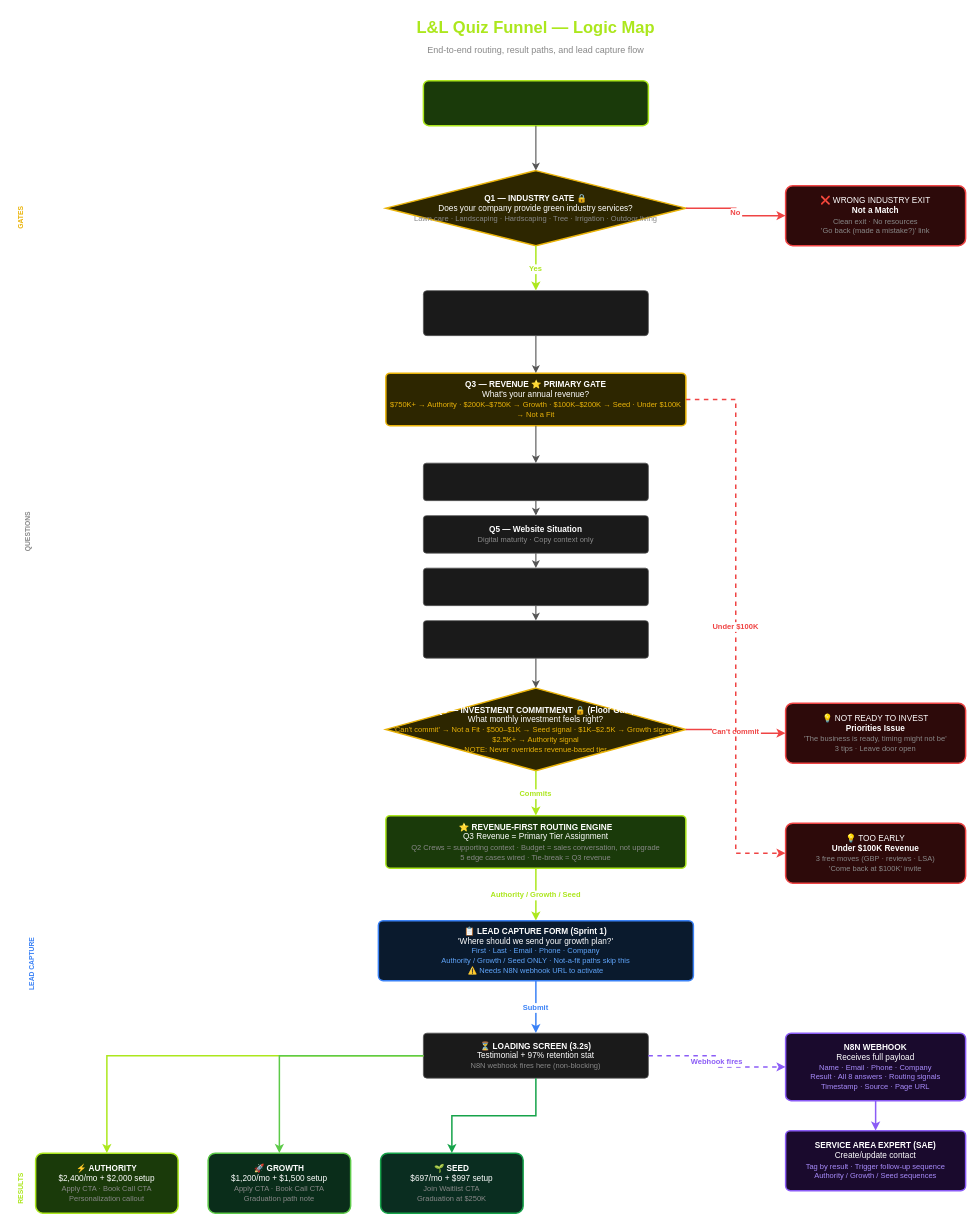
This 979x1226 diagram has some shape labels left out. The shapes that lost their labels are listed below. From the top down, each one's box as (x1, y1, x2, y2) in pixels, then its label:
(422, 80, 649, 126): ENTRY Intro Screen 'Find Your Growth Path in 8 Questions'
(423, 290, 648, 336): Q2 — Crews How many trucks/crews? Supporting signal only
(423, 462, 648, 501): Q4 — Growth Goal Aspirational · Copy context only
(423, 567, 648, 606): Q6 — Paid Ads Experience Context · Affects result page copy
(423, 620, 648, 658): Q7 — Biggest Struggle Pain point · Echoed verbatim on result page
